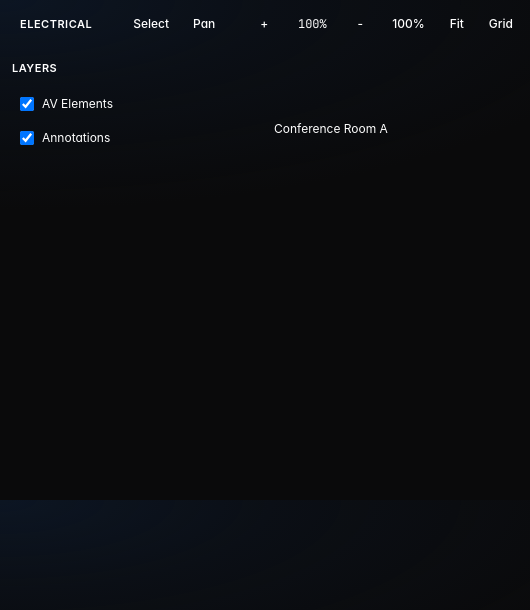
DrawingCanvas Component › Zoom Controls › resets zoom to 100% when clicking reset
What coordinates should you click on to do the following:
click the button named "zoom in"
I would click on:
 (264, 24)
Its box is [248, 8, 280, 40].
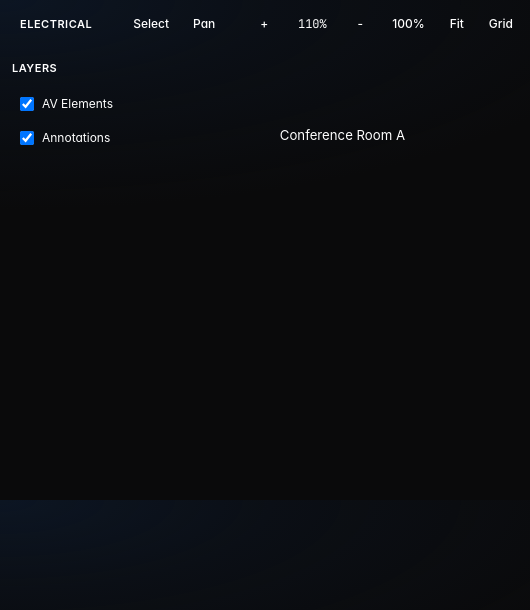
What coordinates should you click on to do the following:
click the button named "zoom in"
I would click on:
 (264, 24)
Its box is [248, 8, 280, 40].
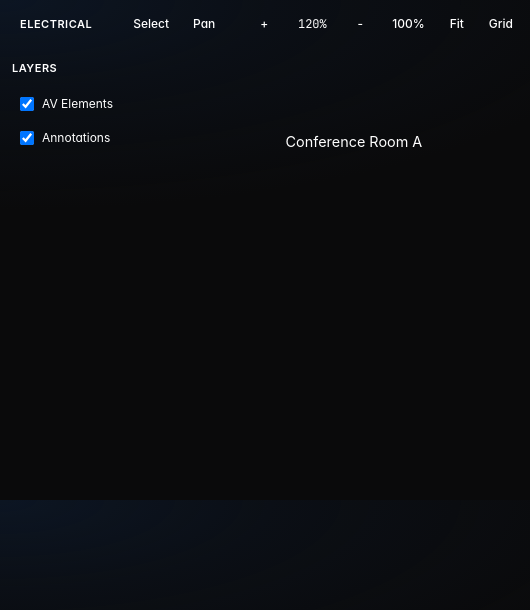
What coordinates should you click on to do the following:
click the button named "reset zoom"
I would click on:
 (408, 24)
Its box is [384, 8, 433, 40].
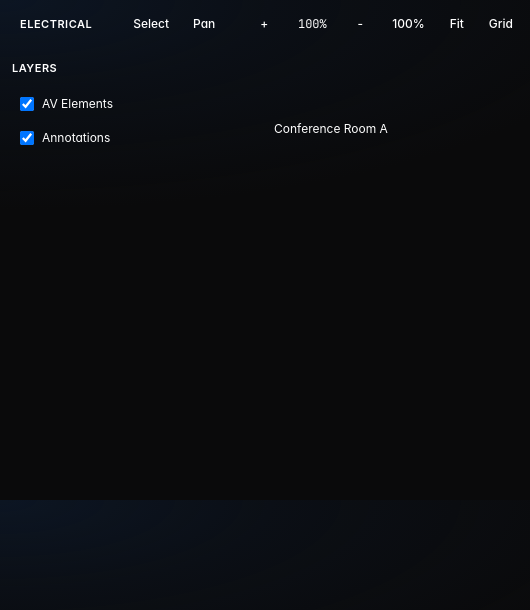
Check: the text with test id "zoom-level" reads "100%", box [298, 16, 327, 32]
